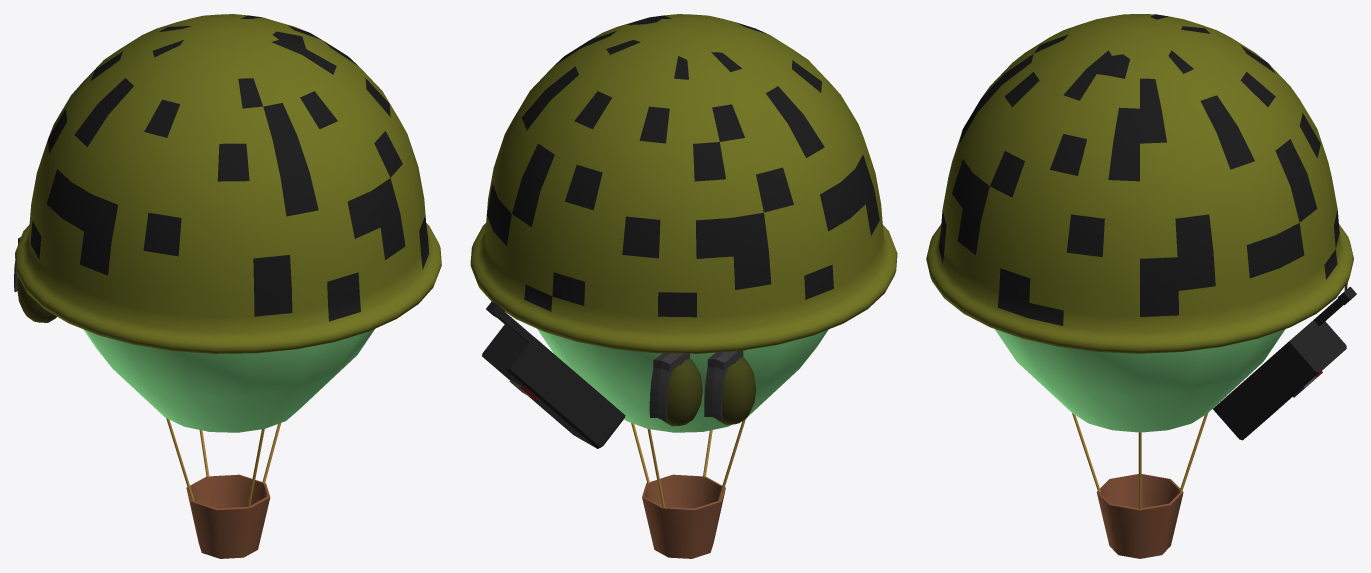
The model's file is Lv3_FB_Vulture.FBX.
3 views of the same model, side by side, from view 1: azimuth 30°, elevation 25°; view 2: azimuth 150°, elevation 25°; view 3: azimuth 270°, elevation 25° (orthographic).
Parts seen in each view (by area): view 1: Sphere002, Sphere001, Cylinder001, Line003, Box001; view 2: Sphere002, Sphere001, Box003, Cylinder001, Box002, Box001, Line003; view 3: Sphere002, Sphere001, Box003, Cylinder001, Line003.
Boxes of the visible parts, box(x1,y1,x2,y2) form: Sphere002: box(15, 14, 441, 353); Sphere001: box(83, 329, 374, 432); Cylinder001: box(186, 474, 270, 558); Line003: box(166, 418, 280, 507); Box001: box(14, 237, 56, 322); Sphere002: box(470, 14, 897, 353); Sphere001: box(537, 329, 828, 432); Box003: box(482, 301, 625, 448); Cylinder001: box(642, 474, 725, 558); Box002: box(649, 353, 702, 426); Box001: box(704, 350, 756, 424); Line003: box(631, 419, 745, 507); Sphere002: box(926, 14, 1353, 353); Sphere001: box(995, 329, 1285, 432); Box003: box(1213, 287, 1356, 440); Cylinder001: box(1096, 474, 1183, 558); Line003: box(1072, 413, 1208, 509).
Size of the model in its own units: 147 by 196 by 148.
